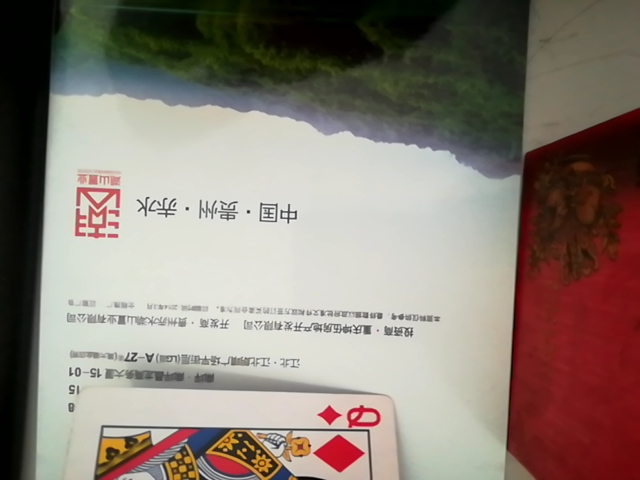fk q: (55, 379, 405, 480)
